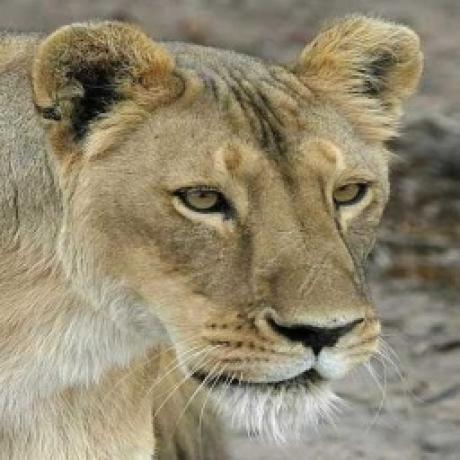Lion: (0, 14, 424, 458)
